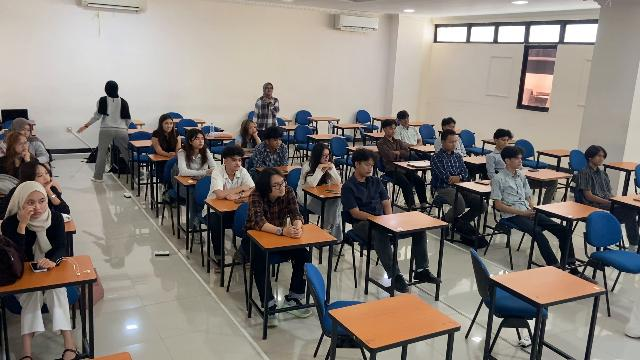fokus: (27, 195, 45, 218), (36, 167, 51, 187), (271, 178, 285, 195), (361, 160, 373, 176), (512, 153, 523, 169), (594, 150, 605, 166), (16, 140, 29, 153), (229, 155, 240, 170), (193, 136, 204, 148), (447, 138, 458, 150), (163, 120, 174, 131), (21, 125, 31, 137), (271, 137, 281, 149), (388, 123, 396, 137), (499, 137, 509, 148), (248, 123, 257, 135), (322, 150, 330, 163), (401, 116, 410, 125), (446, 123, 456, 131)
